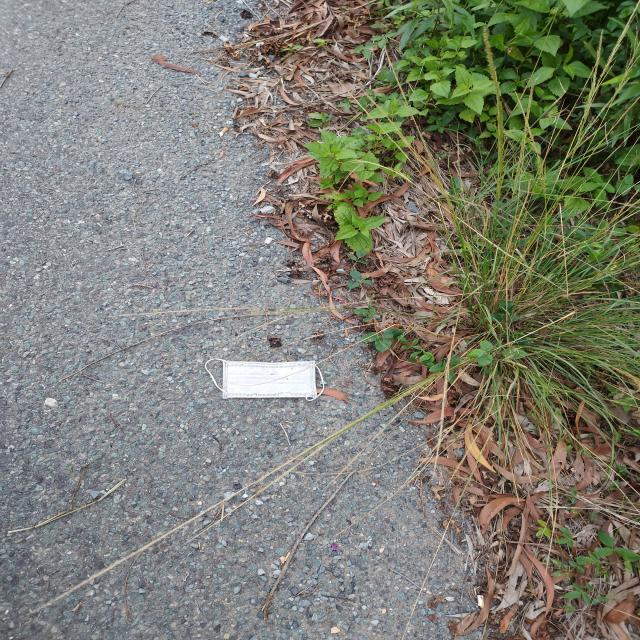mask: (204, 358, 325, 401)
